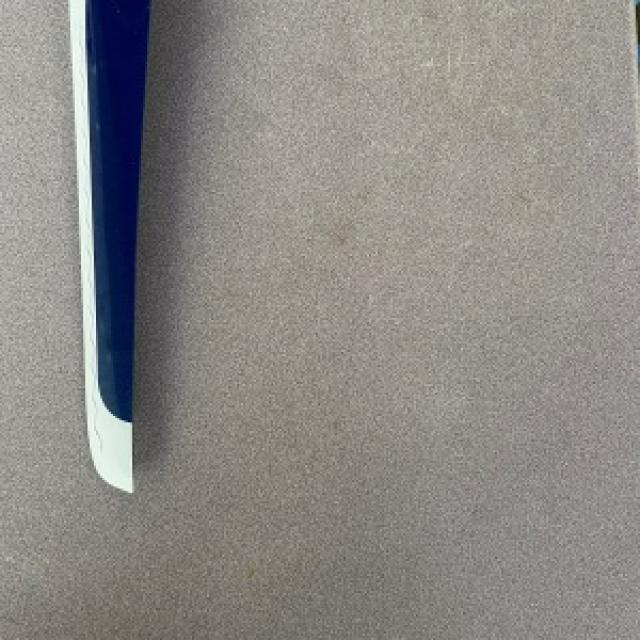healthy: (139, 0, 279, 478), (68, 0, 147, 491)
